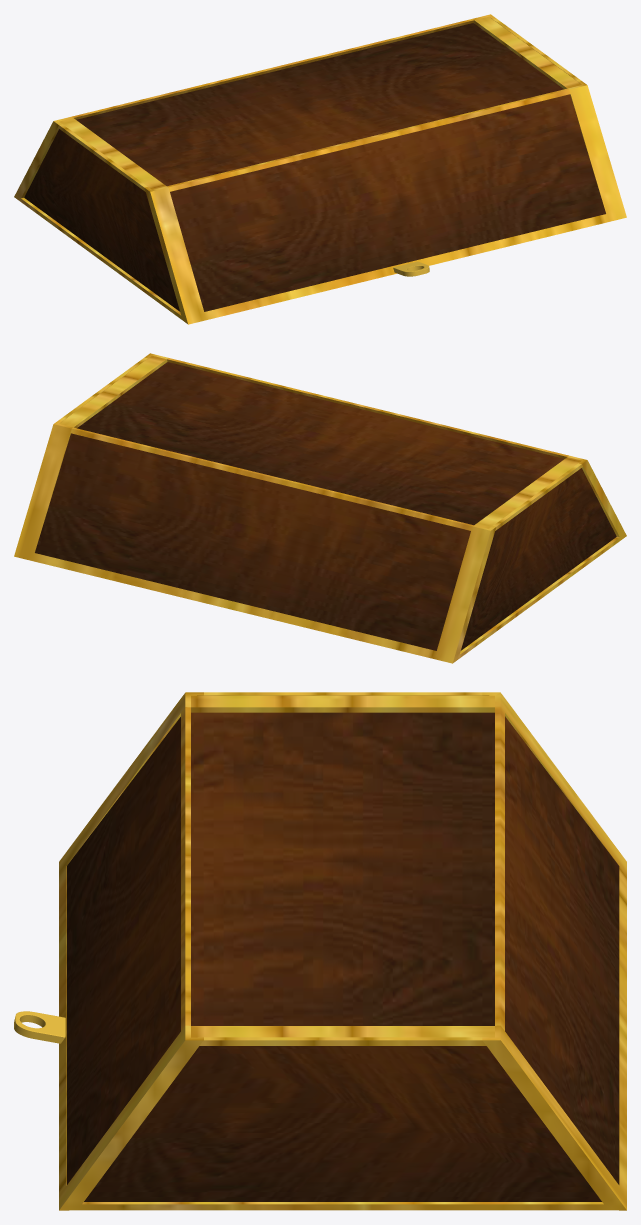
Rendered from chest_top.glb.
The picture shows the model from 3 angles, top to bottom: view 1: azimuth 30°, elevation 25°; view 2: azimuth 150°, elevation 25°; view 3: azimuth 270°, elevation 25°; orthographic projection. The views are drawn at different scales.
Parts seen in each view (by area): view 1: lock 2; view 2: lock 2; view 3: lock 2.
Boxes of the visible parts, bbox=[...] form: lock 2: bbox=[14, 14, 626, 324]; lock 2: bbox=[14, 353, 626, 663]; lock 2: bbox=[14, 692, 626, 1210].
Bounding box in the file's own units: 3.07 × 0.6982 × 2.28.
Materials: 2 (2 with a texture image).
